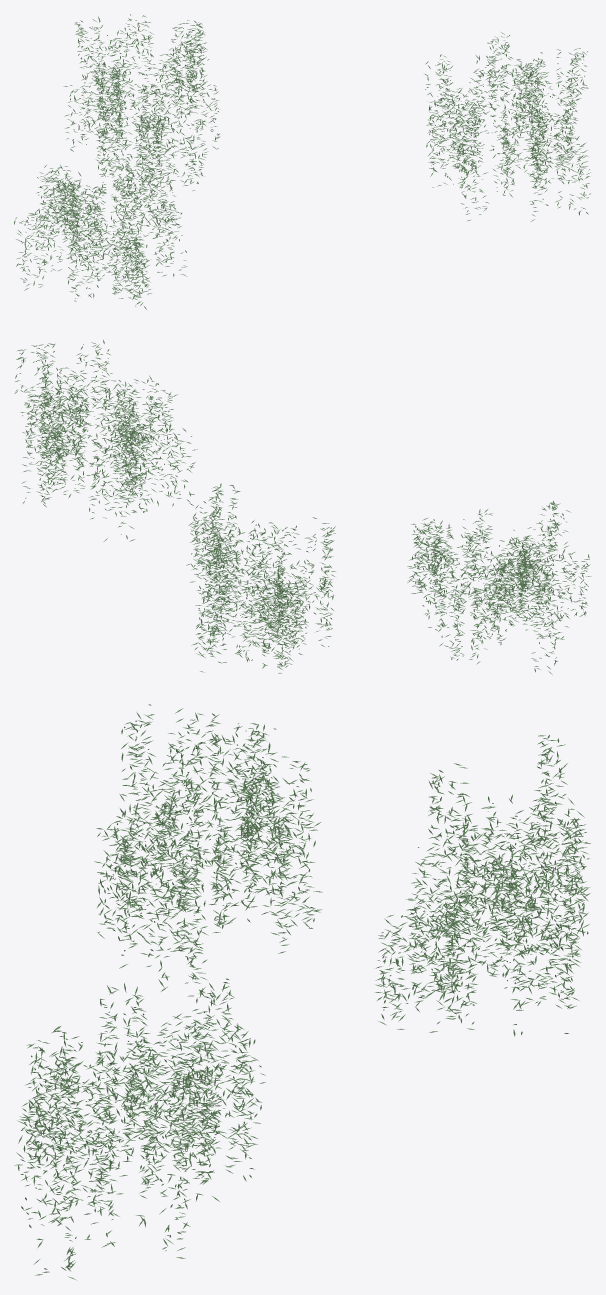
The model's file is xiyuan-vegetation-11-near.glb.
3 renders of one model, top to bottom at view 1: azimuth 30°, elevation 25°; view 2: azimuth 150°, elevation 25°; view 3: azimuth 270°, elevation 25°, orthographic. The views are drawn at different scales.
Parts seen in each view (by area): view 1: vegetation willow leaves; view 2: vegetation willow leaves; view 3: vegetation willow leaves.
Boxes of the visible parts, bbox=[...] form: vegetation willow leaves: bbox=[14, 14, 590, 309]; vegetation willow leaves: bbox=[14, 340, 591, 674]; vegetation willow leaves: bbox=[14, 704, 590, 1280].
Bounding box in the file's own units: 28.67 × 8.9 × 16.36.
